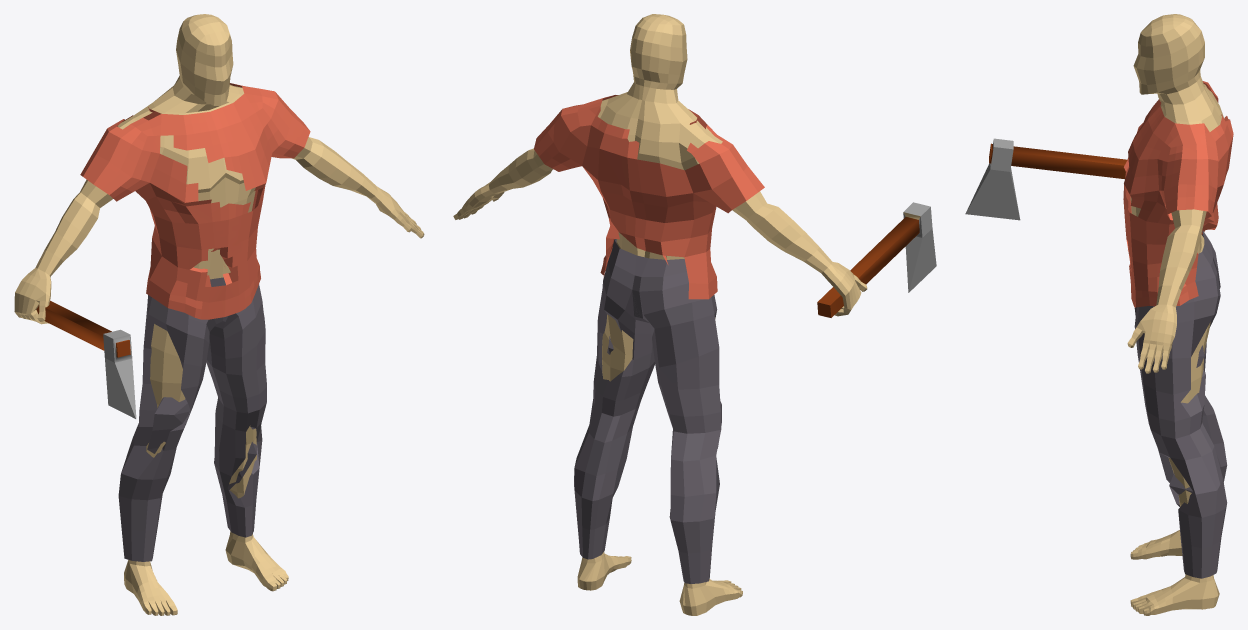
3 views of the same model, side by side, from view 1: azimuth 30°, elevation 25°; view 2: azimuth 150°, elevation 25°; view 3: azimuth 270°, elevation 25° (orthographic).
Parts seen in each view (by area): view 1: Body, Body.001, Body.002; view 2: Body.002, Body, Body.001; view 3: Body, Body.002, Body.001.
Boxes of the visible parts, box(x1,y1,x2,y2) form: Body: box(14, 14, 424, 615); Body.001: box(80, 83, 310, 319); Body.002: box(118, 277, 266, 561); Body.002: box(574, 239, 721, 583); Body: box(453, 14, 936, 615); Body.001: box(534, 95, 764, 299); Body: box(965, 14, 1223, 615); Body.002: box(1134, 231, 1227, 578); Body.001: box(1123, 81, 1233, 307).
Bounding box in the file's own units: 135 × 184 × 79.16.
